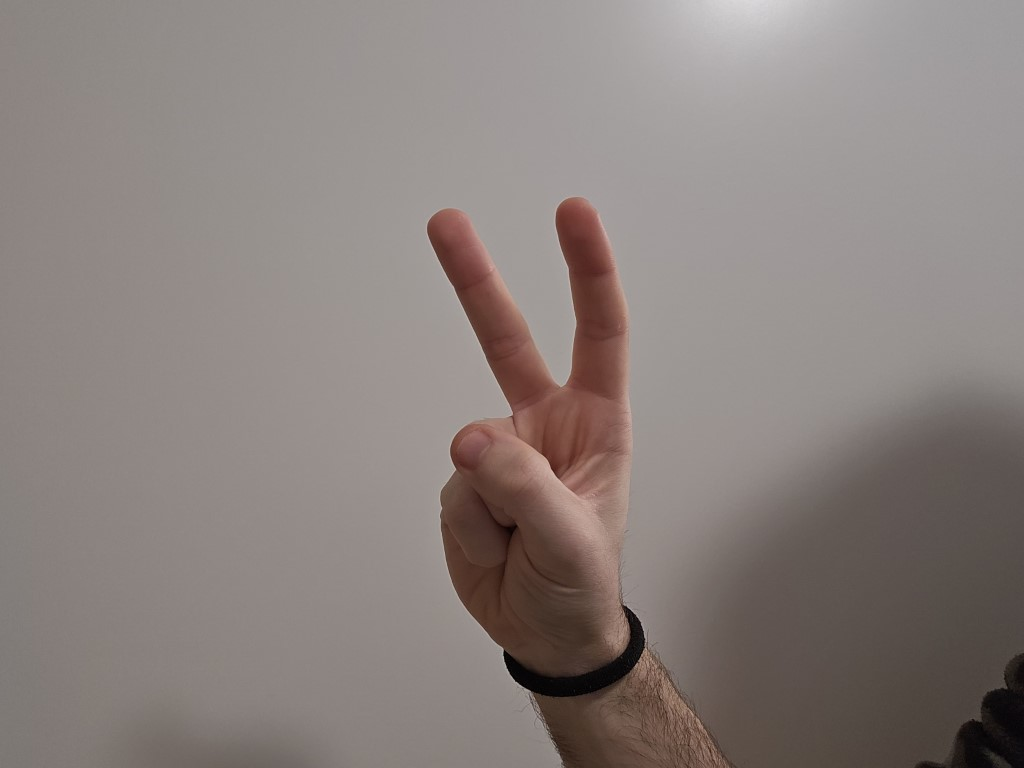v: (372, 182, 660, 663)
